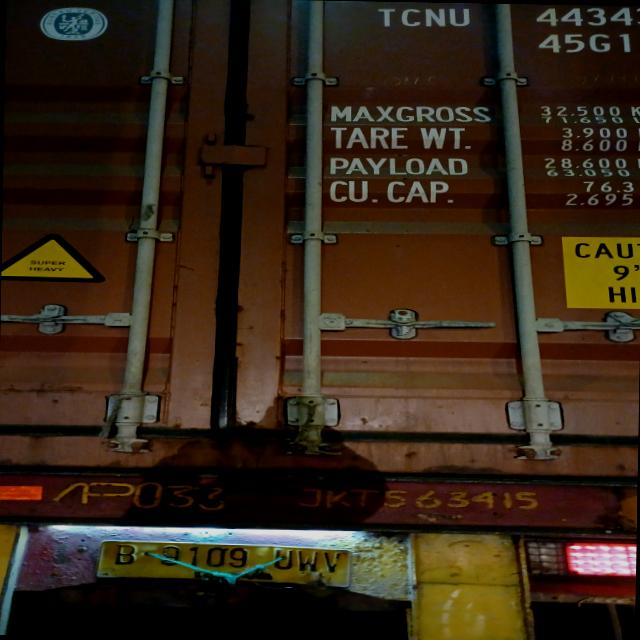seal: (388, 314, 422, 337)
